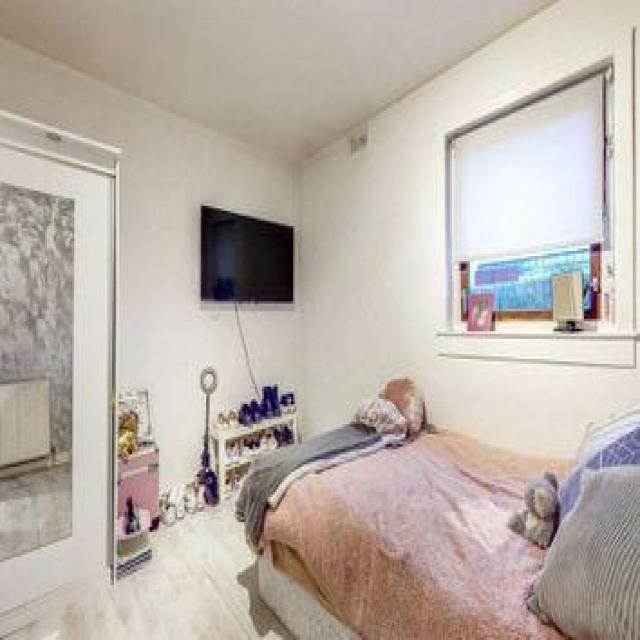Wall: (300, 0, 640, 457), (1, 36, 300, 483), (0, 1, 553, 159), (0, 465, 287, 639), (0, 184, 74, 460), (243, 311, 299, 385)
